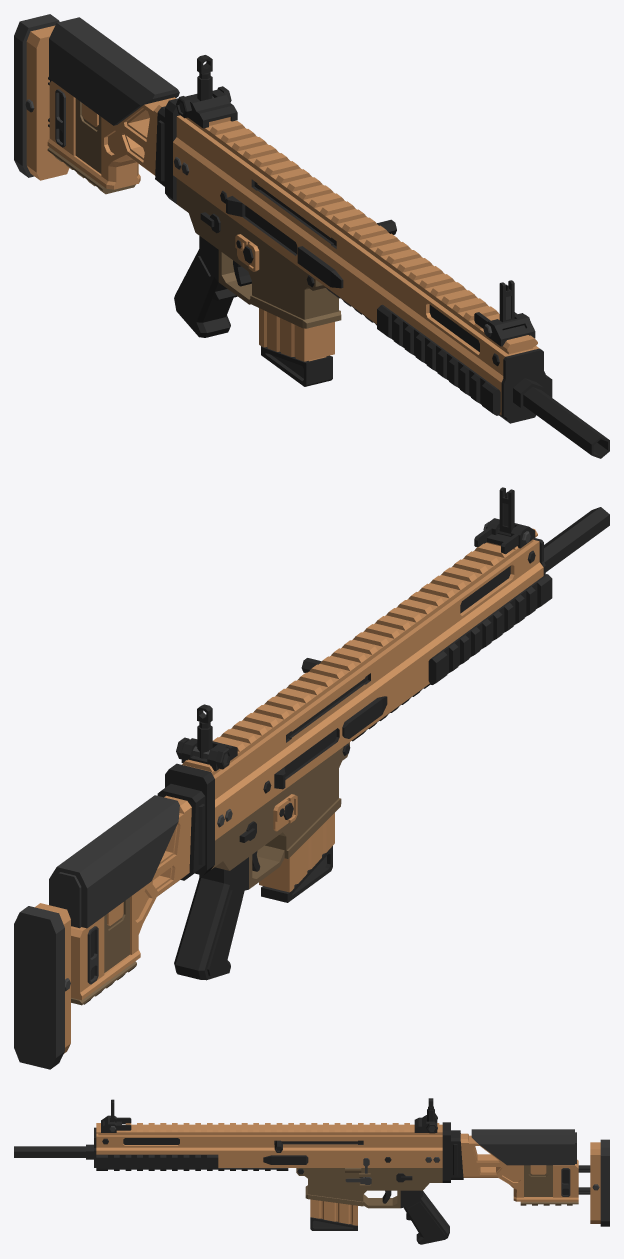
The model's file is DMR_A.fbx.
The picture shows the model from 3 angles, top to bottom: view 1: azimuth 30°, elevation 25°; view 2: azimuth 150°, elevation 25°; view 3: azimuth 270°, elevation 25°; orthographic projection. The views are drawn at different scales.
Parts seen in each view (by area): view 1: DMR_A_Receiver_Up, DMR_A_Stock, DMR_A_Receiver_Down, DMR_A_Stock_Part, DMR_A_Mag, DMR_A_Grip, DMR_A_Barrel, DMR_A_Sight_Back, DMR_A_Sight_Forward, DMR_A_Sight_Back_Part, DMR_A_Sight_Forward_Part; view 2: DMR_A_Receiver_Up, DMR_A_Stock, DMR_A_Stock_Part, DMR_A_Receiver_Down, DMR_A_Grip, DMR_A_Mag, DMR_A_Barrel, DMR_A_Sight_Forward, DMR_A_Sight_Back; view 3: DMR_A_Receiver_Up, DMR_A_Stock, DMR_A_Receiver_Down, DMR_A_Stock_Part, DMR_A_Grip, DMR_A_Mag, DMR_A_Barrel, DMR_A_Sight_Forward, DMR_A_Sight_Back.
Boxes of the visible parts, box(x1,y1,x2,y2) form: DMR_A_Receiver_Up: box(165, 94, 552, 423); DMR_A_Stock: box(47, 17, 179, 194); DMR_A_Receiver_Down: box(176, 178, 341, 328); DMR_A_Stock_Part: box(14, 14, 69, 180); DMR_A_Mag: box(259, 308, 334, 386); DMR_A_Grip: box(174, 236, 237, 337); DMR_A_Barrel: box(513, 378, 609, 458); DMR_A_Sight_Back: box(176, 86, 237, 128); DMR_A_Sight_Forward: box(474, 312, 535, 346); DMR_A_Sight_Back_Part: box(197, 55, 212, 100); DMR_A_Sight_Forward_Part: box(499, 280, 514, 322); DMR_A_Receiver_Up: box(165, 528, 552, 875); DMR_A_Stock: box(49, 784, 205, 1005); DMR_A_Stock_Part: box(14, 903, 70, 1069); DMR_A_Receiver_Down: box(211, 742, 350, 889); DMR_A_Grip: box(174, 857, 248, 980); DMR_A_Mag: box(259, 813, 334, 902); DMR_A_Barrel: box(544, 507, 609, 572); DMR_A_Sight_Forward: box(474, 518, 535, 554); DMR_A_Sight_Back: box(176, 737, 237, 771); DMR_A_Receiver_Up: box(94, 1122, 450, 1182); DMR_A_Stock: box(451, 1129, 578, 1205); DMR_A_Receiver_Down: box(296, 1158, 442, 1208); DMR_A_Stock_Part: box(578, 1139, 609, 1226); DMR_A_Grip: box(400, 1190, 449, 1244); DMR_A_Mag: box(310, 1199, 357, 1230); DMR_A_Barrel: box(14, 1144, 93, 1159); DMR_A_Sight_Forward: box(101, 1115, 131, 1132); DMR_A_Sight_Back: box(414, 1113, 437, 1133).
Size of the model in its own units: 0.0963 by 0.3369 by 1.28.
